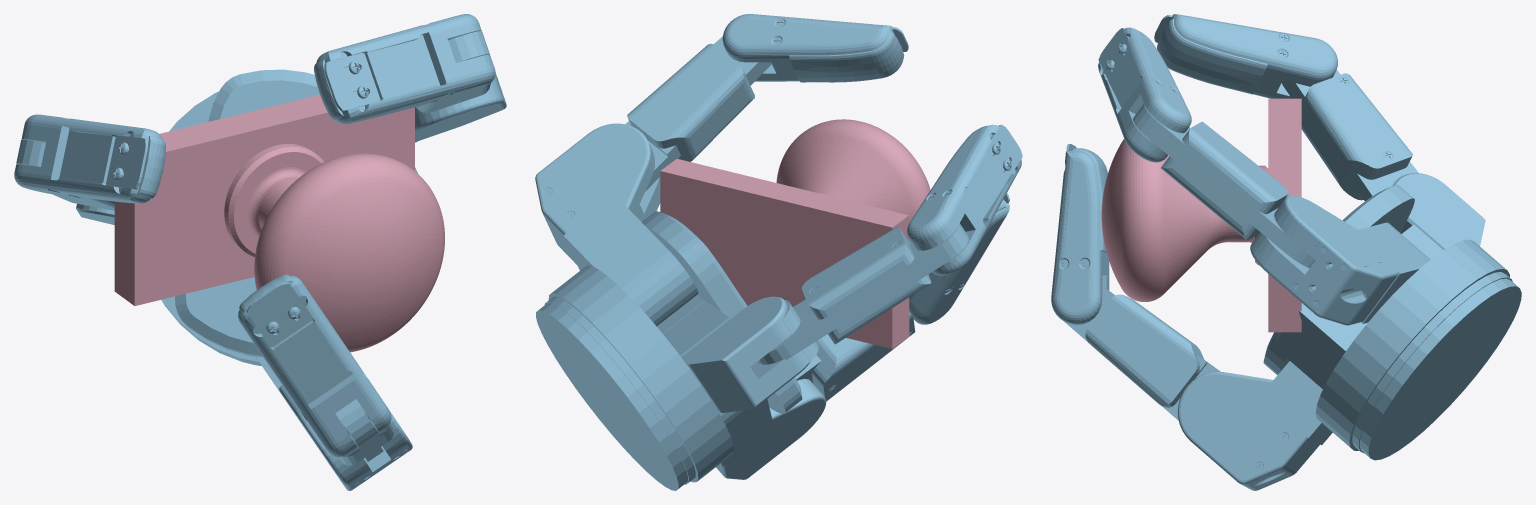
3 renders of one model, left to right at view 1: azimuth 30°, elevation 25°; view 2: azimuth 150°, elevation 25°; view 3: azimuth 270°, elevation 25°, orthographic. The views are drawn at different scales.
Parts seen in each view (by area): view 1: door_knob.stl, world; view 2: world, door_knob.stl; view 3: world, door_knob.stl.
Part boxes in pixels (box(x1,y1,x2,y2)): door_knob.stl: box(114, 94, 444, 352); world: box(14, 14, 506, 490); world: box(535, 14, 1022, 490); door_knob.stl: box(660, 119, 930, 348); world: box(1051, 14, 1521, 490); door_knob.stl: box(1101, 98, 1301, 332).
Bounding box in the file's own units: 0.1775 × 0.1757 × 0.1765.
